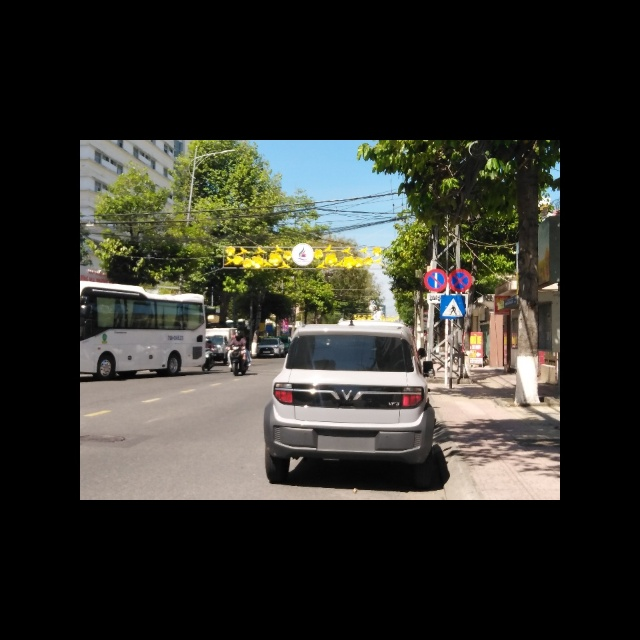Cấm dừng xe và đỗ xe: (448, 269, 472, 293)
Cấm đỗ xe ngày lẻ: (424, 269, 449, 292)
Đường dành cho người đi bộ: (439, 294, 466, 320)
